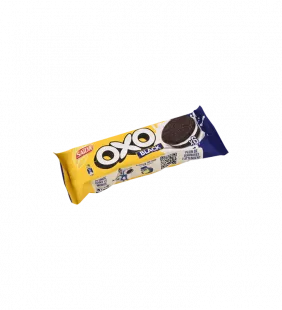SAIDA: (44, 100, 237, 213)
